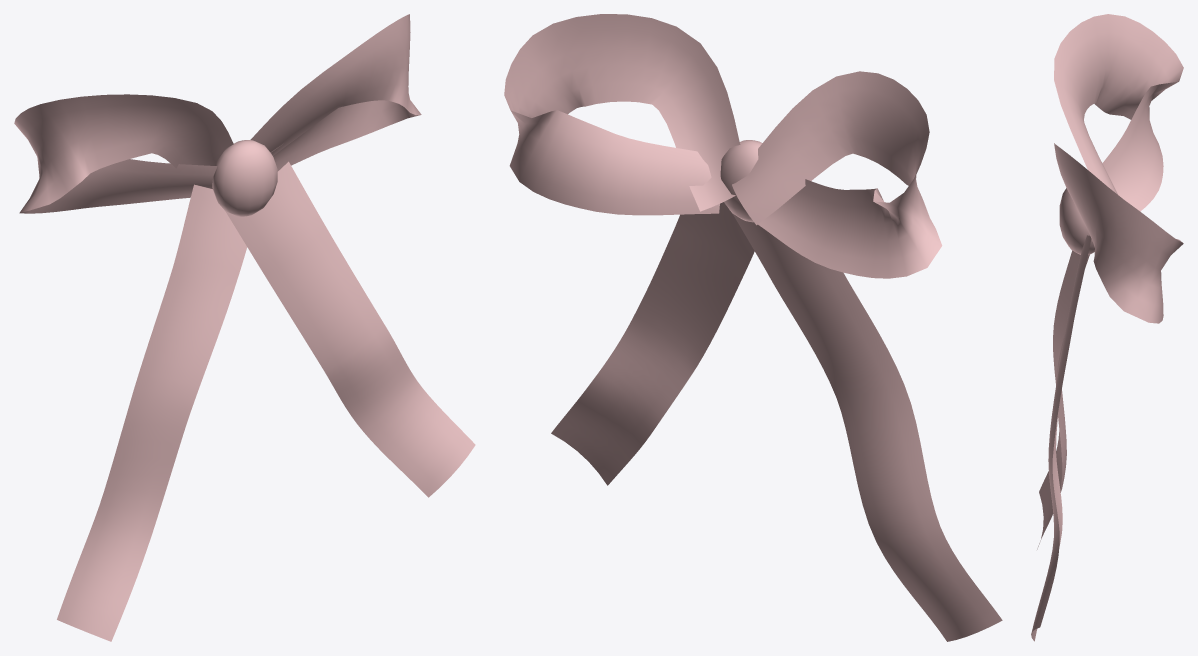
File: bow.glb
The picture shows the model from 3 angles, left to right: view 1: azimuth 30°, elevation 25°; view 2: azimuth 150°, elevation 25°; view 3: azimuth 270°, elevation 25°; orthographic projection. The views are drawn at different scales.
Bounding box in the file's own units: 0.3968 × 0.4764 × 0.1226.
